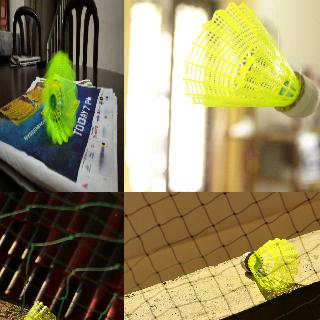shuttlecock: (182, 2, 320, 118), (42, 50, 77, 144), (240, 238, 298, 290), (0, 300, 67, 319)
